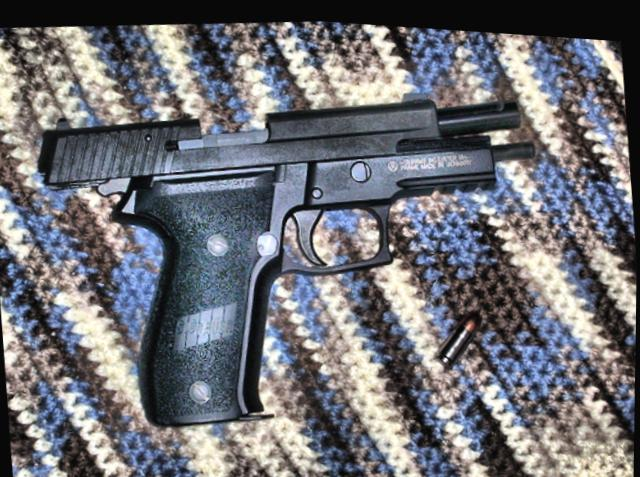pistol: (23, 55, 559, 460)
